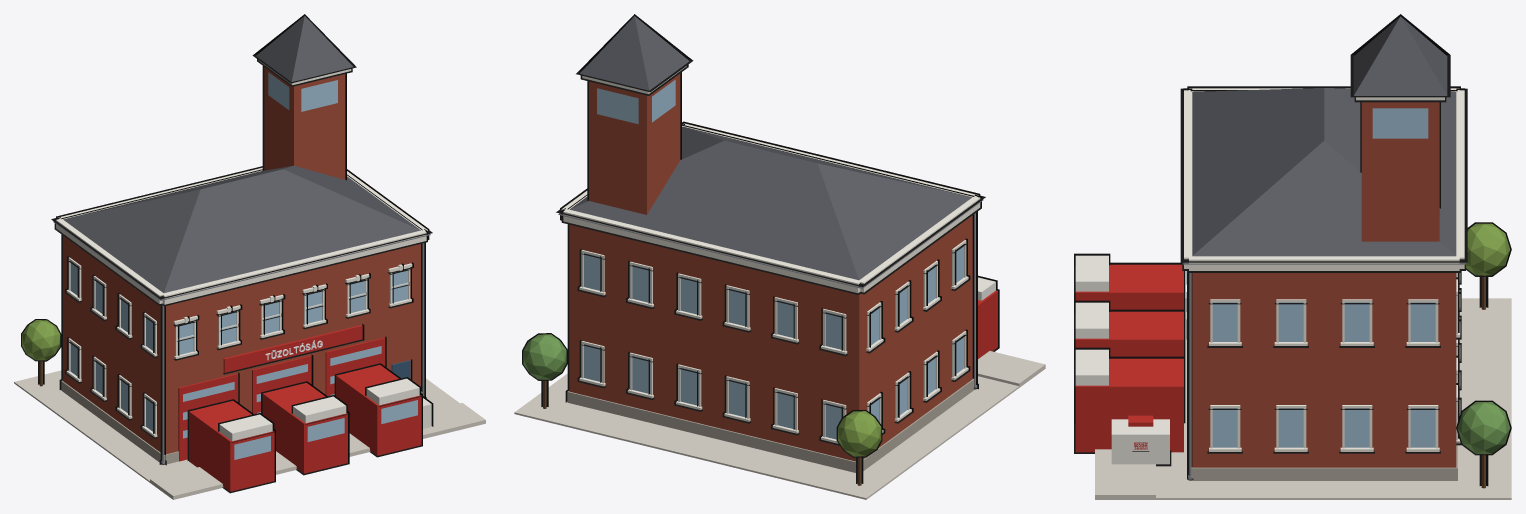
Rendered from Kamu_itfaiye_1.fbx.
3 renders of one model, left to right at view 1: azimuth 30°, elevation 25°; view 2: azimuth 150°, elevation 25°; view 3: azimuth 270°, elevation 25°, orthographic. The views are drawn at different scales.
Visible parts, largest first — view 1: Kamu_itfaiye_1; view 2: Kamu_itfaiye_1; view 3: Kamu_itfaiye_1.
Boxes of the visible parts, <box> form: Kamu_itfaiye_1: <box>14,14,485,499</box>; Kamu_itfaiye_1: <box>514,14,1045,499</box>; Kamu_itfaiye_1: <box>1074,14,1511,499</box>.
Bounding box in the file's own units: 17.21 × 17.67 × 15.76.
